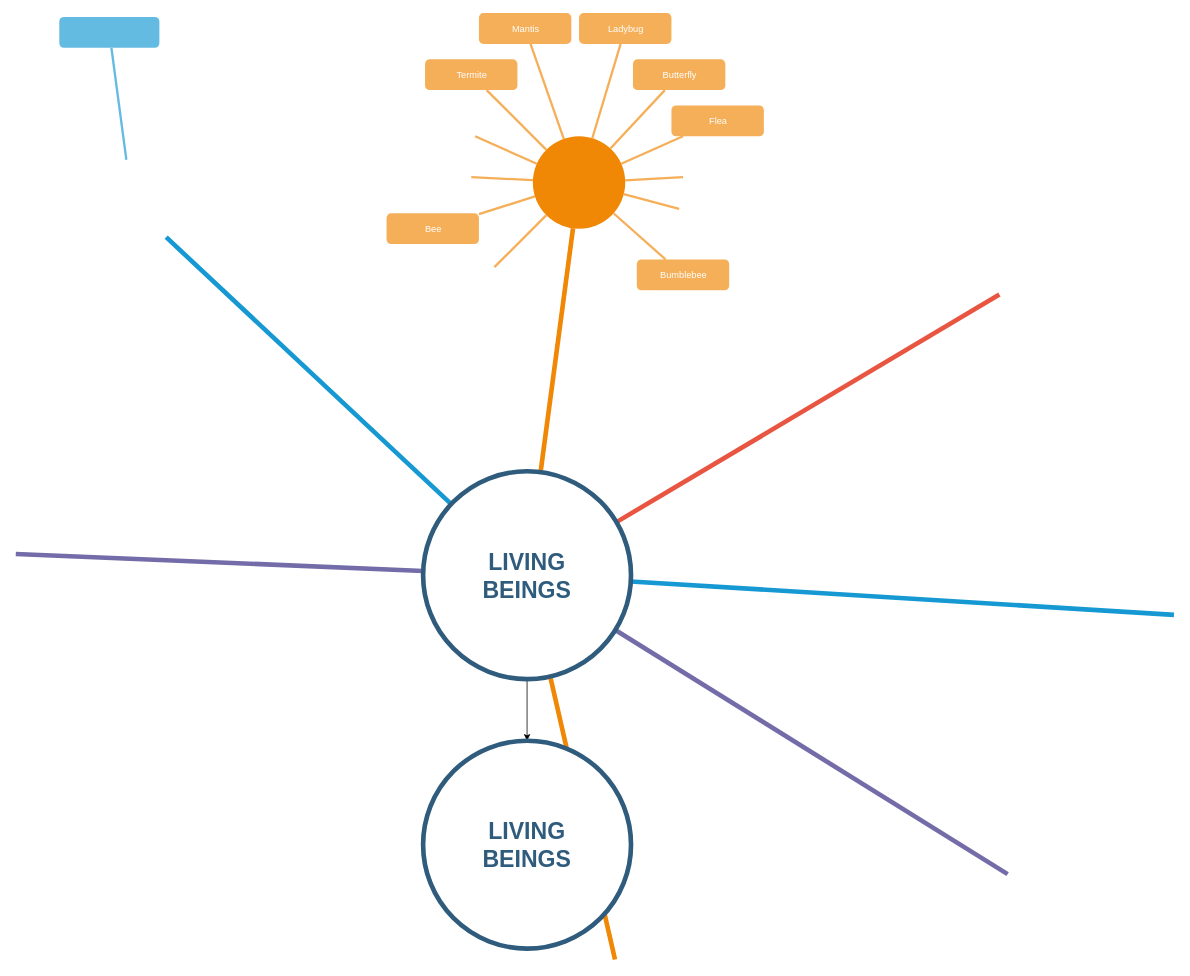
This 1190x976 diagram has some shape labels left out. The centre of each missing label's shape, as x and y in pixels:
Donkey: (109,32)
Insect: (578,182)
